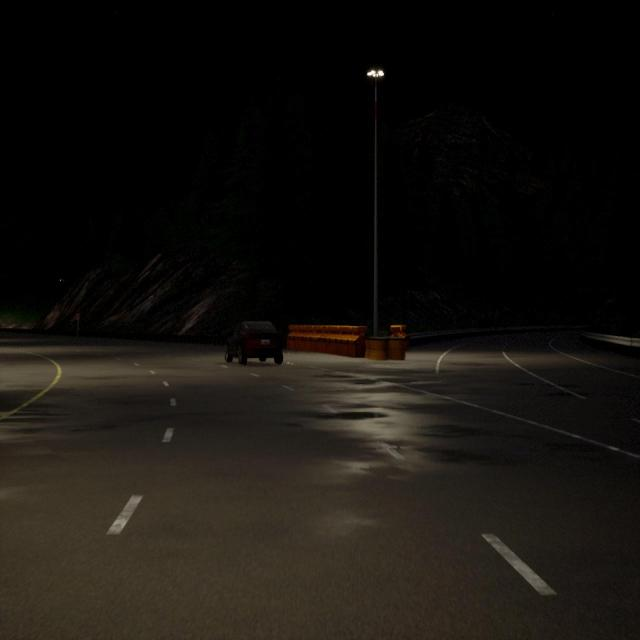Traffic_Signs: (76, 314, 80, 320)
Vehicle: (224, 321, 283, 365)
